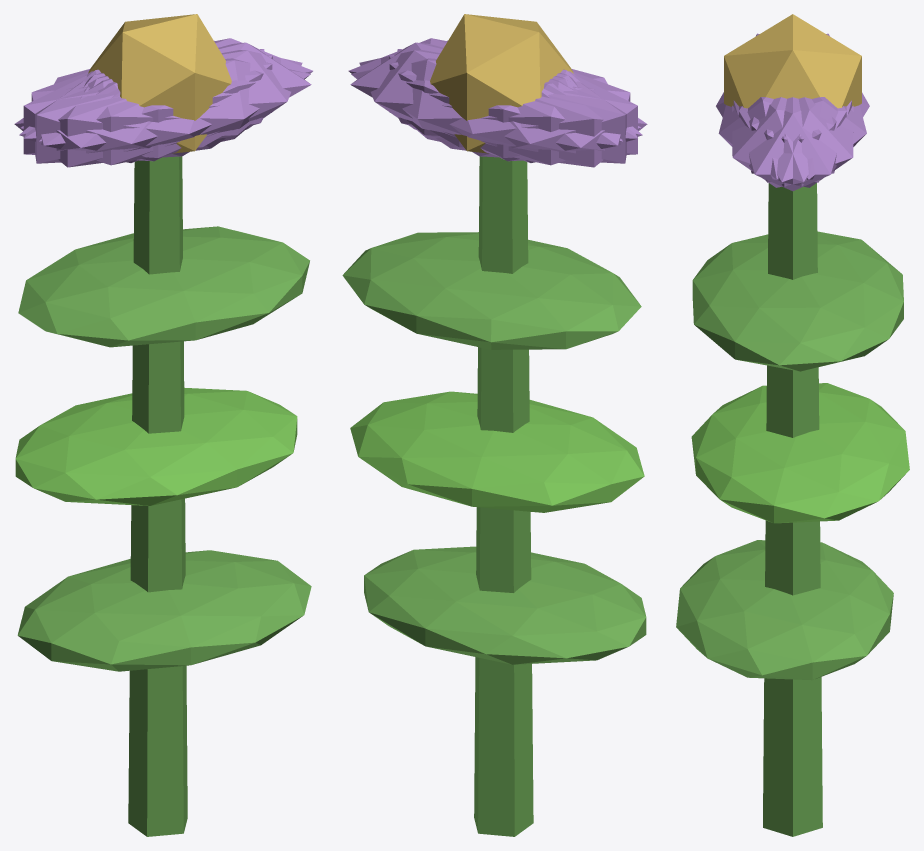
Rendered from hedera-colchica.glb.
3 renders of one model, left to right at view 1: azimuth 30°, elevation 25°; view 2: azimuth 150°, elevation 25°; view 3: azimuth 270°, elevation 25°, orthographic.
Parts seen in each view (by area): view 1: stem, leaf0, leaf2, leaf1, center, petal1, petal6, petal2, petal5, petal7, petal0, petal4 (+2 smaller); view 2: leaf1, stem, leaf2, leaf0, center, petal8, petal3, petal7, petal4, petal2, petal0, petal5 (+2 smaller); view 3: leaf2, leaf1, leaf0, stem, center, petal0, petal4, petal5, petal1, petal8.
Boxes of the visible parts, box(x1,y1,x2,y2) form: stem: box(128, 156, 187, 836); leaf0: box(17, 550, 311, 671); leaf2: box(18, 226, 309, 347); leaf1: box(15, 387, 297, 505); center: box(88, 14, 231, 153); petal1: box(19, 58, 310, 165); petal6: box(14, 71, 225, 167); petal2: box(35, 49, 264, 163); petal5: box(39, 50, 302, 157); petal7: box(23, 55, 272, 161); petal0: box(88, 42, 311, 147); petal4: box(20, 38, 312, 138); leaf1: box(350, 391, 644, 512); stem: box(474, 156, 533, 836); leaf2: box(342, 232, 641, 349); leaf0: box(364, 546, 646, 664); center: box(430, 14, 573, 153); petal8: box(351, 58, 642, 165); petal3: box(436, 71, 647, 167); petal7: box(397, 49, 626, 163); petal4: box(359, 50, 622, 157); petal2: box(389, 55, 637, 161); petal0: box(350, 42, 573, 147); petal5: box(348, 38, 641, 138); leaf2: box(692, 231, 903, 371); leaf1: box(691, 383, 909, 523); leaf0: box(676, 540, 893, 680); stem: box(763, 183, 822, 836); center: box(724, 14, 861, 108); petal0: box(733, 97, 851, 191); petal4: box(739, 97, 853, 187); petal5: box(732, 97, 846, 187); petal1: box(718, 97, 836, 179); petal8: box(749, 97, 866, 179).
Size of the model in its own units: 0.1452 by 0.3875 by 0.1037.
